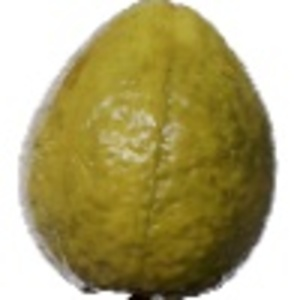goiaba: (11, 3, 287, 297)
